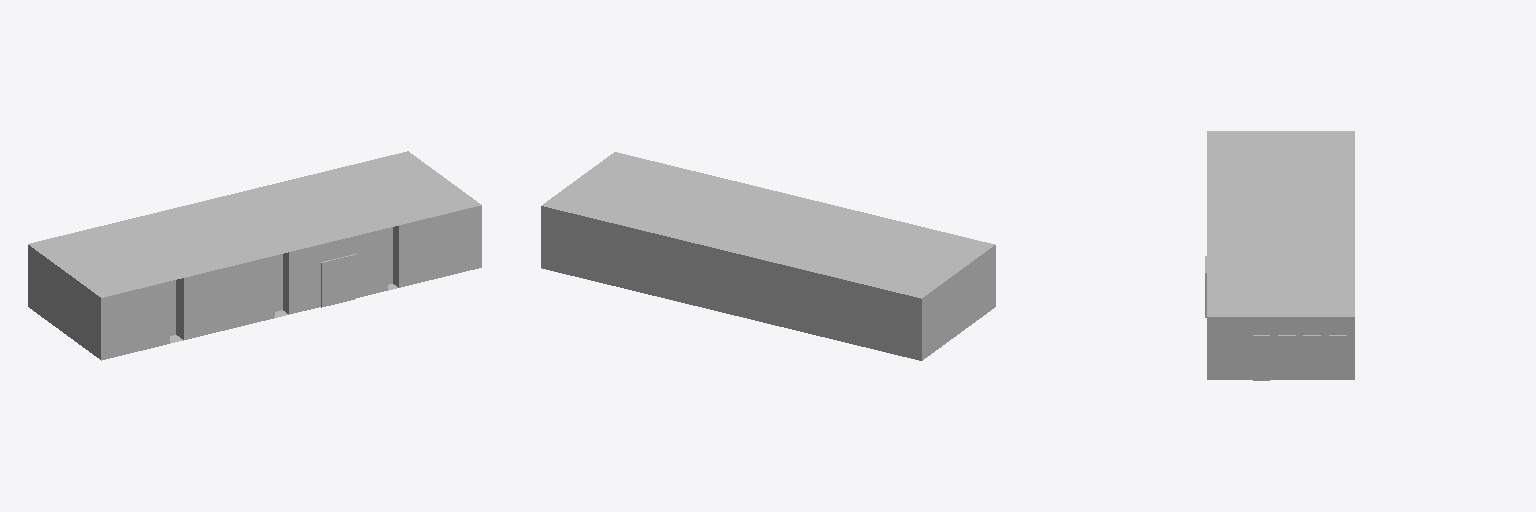
File: datacenter2.obj
3 views of the same model, side by side, from view 1: azimuth 30°, elevation 25°; view 2: azimuth 150°, elevation 25°; view 3: azimuth 270°, elevation 25° (orthographic).
Parts seen in each view (by area): view 1: Box001; view 2: Box001; view 3: Box001.
Part boxes in pixels (x1,y1,x2,y2): Box001: (28,151,481,360); Box001: (541,152,995,360); Box001: (1205,131,1354,380).
Size of the model in its own units: 2240 by 350 by 758.